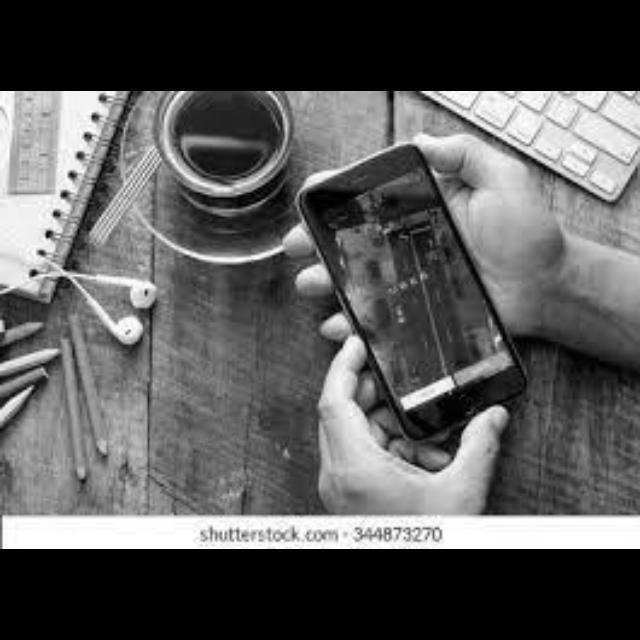fake: (287, 151, 553, 442)
